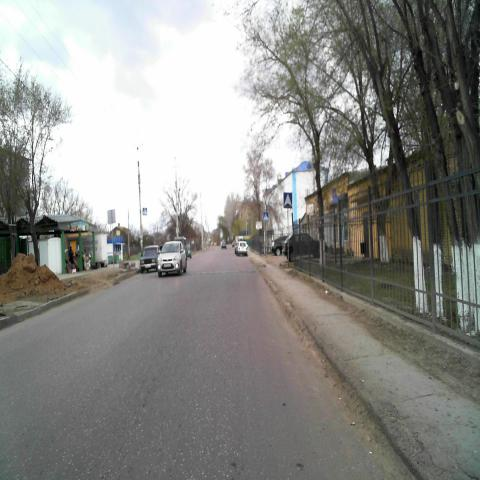5_20: (283, 192, 292, 208)
